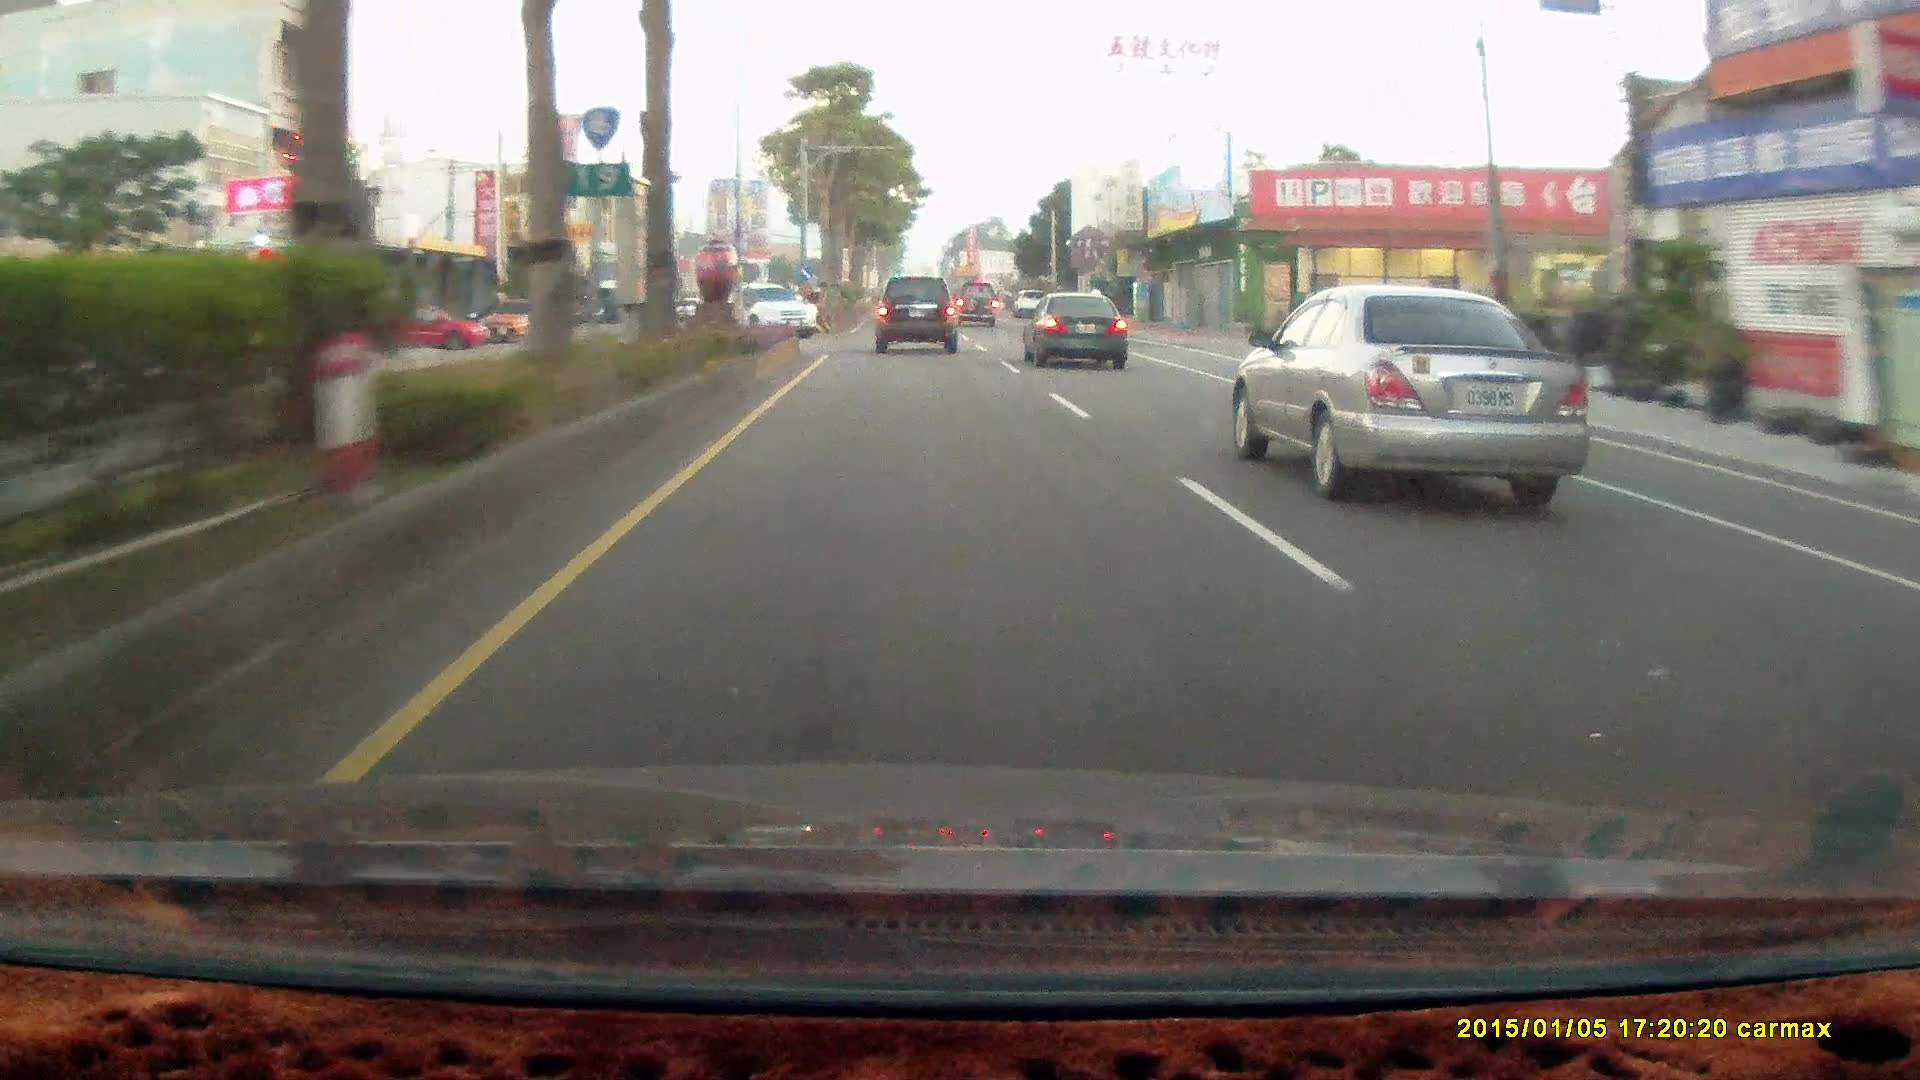vehicle: (1238, 284, 1585, 502), (1021, 291, 1131, 376), (1019, 291, 1126, 368), (876, 273, 964, 359), (349, 303, 496, 353), (349, 301, 487, 351), (872, 276, 953, 353), (732, 278, 818, 339), (741, 284, 819, 343), (951, 282, 1000, 332), (949, 281, 998, 330)
